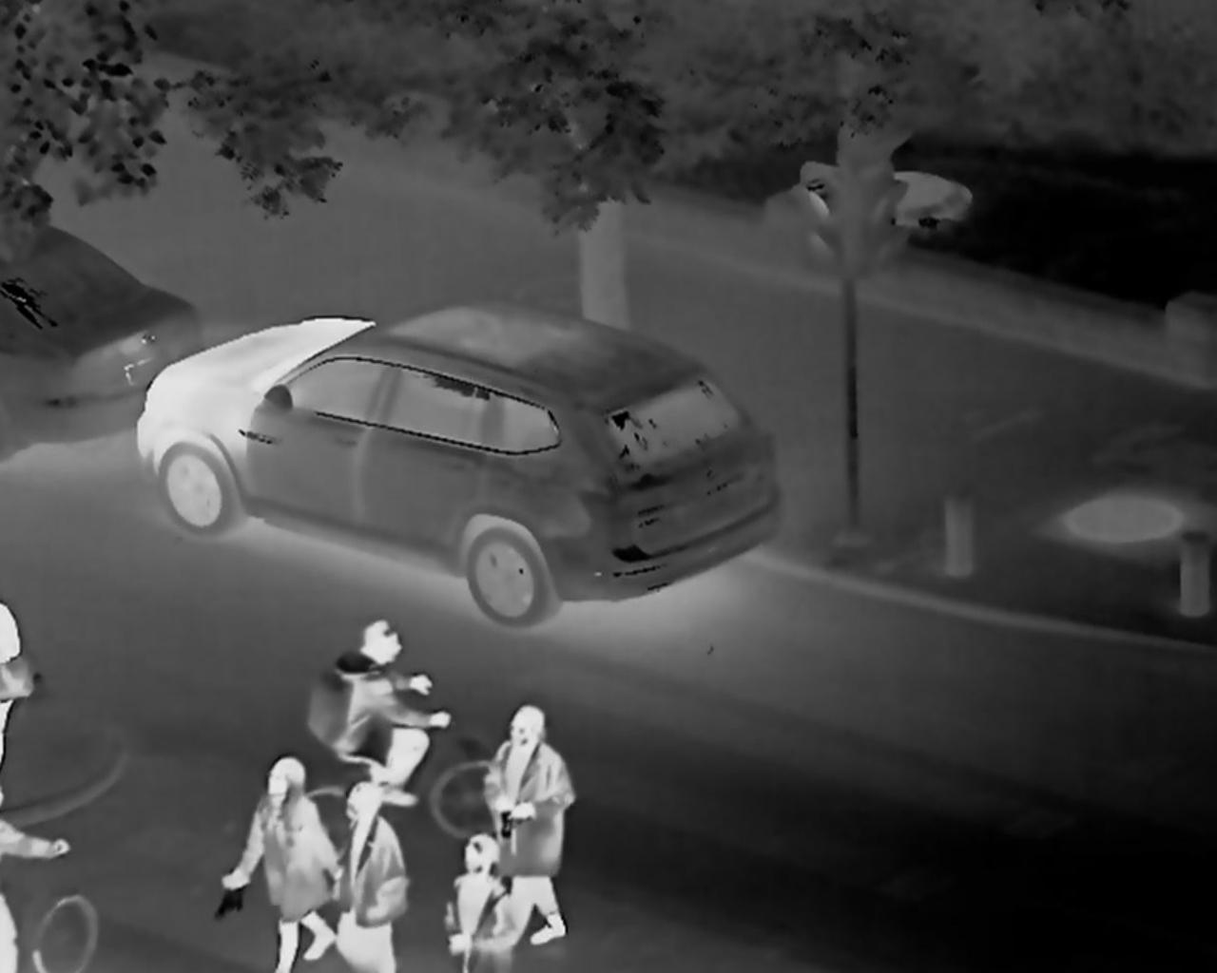person: (238, 759, 337, 959), (488, 707, 572, 932), (345, 621, 449, 801), (333, 779, 403, 953), (448, 834, 513, 973)
